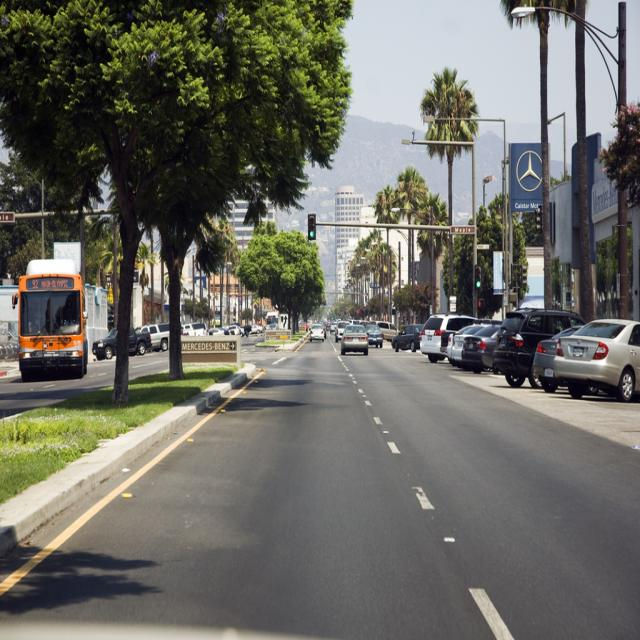car: (338, 322, 368, 353), (307, 321, 324, 342)
